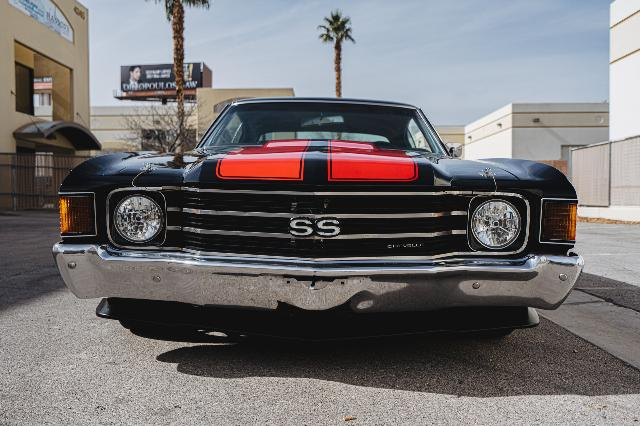chevelle-1972: (52, 98, 583, 338)
